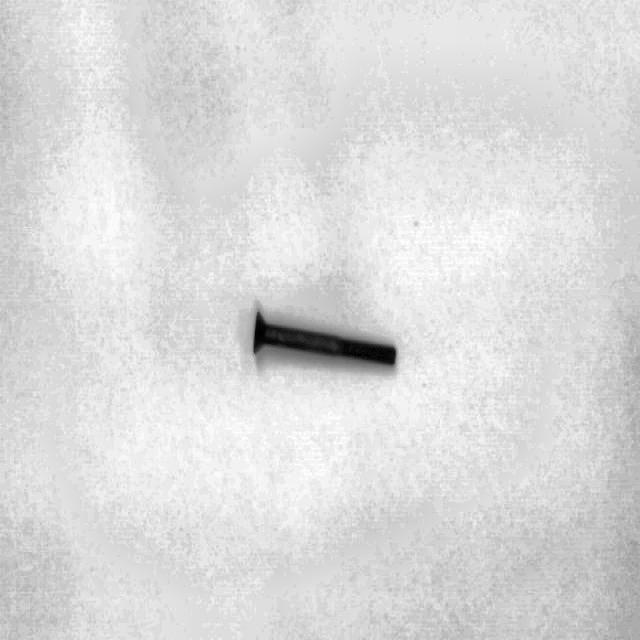Flat head socket screw: (249, 307, 398, 372)
